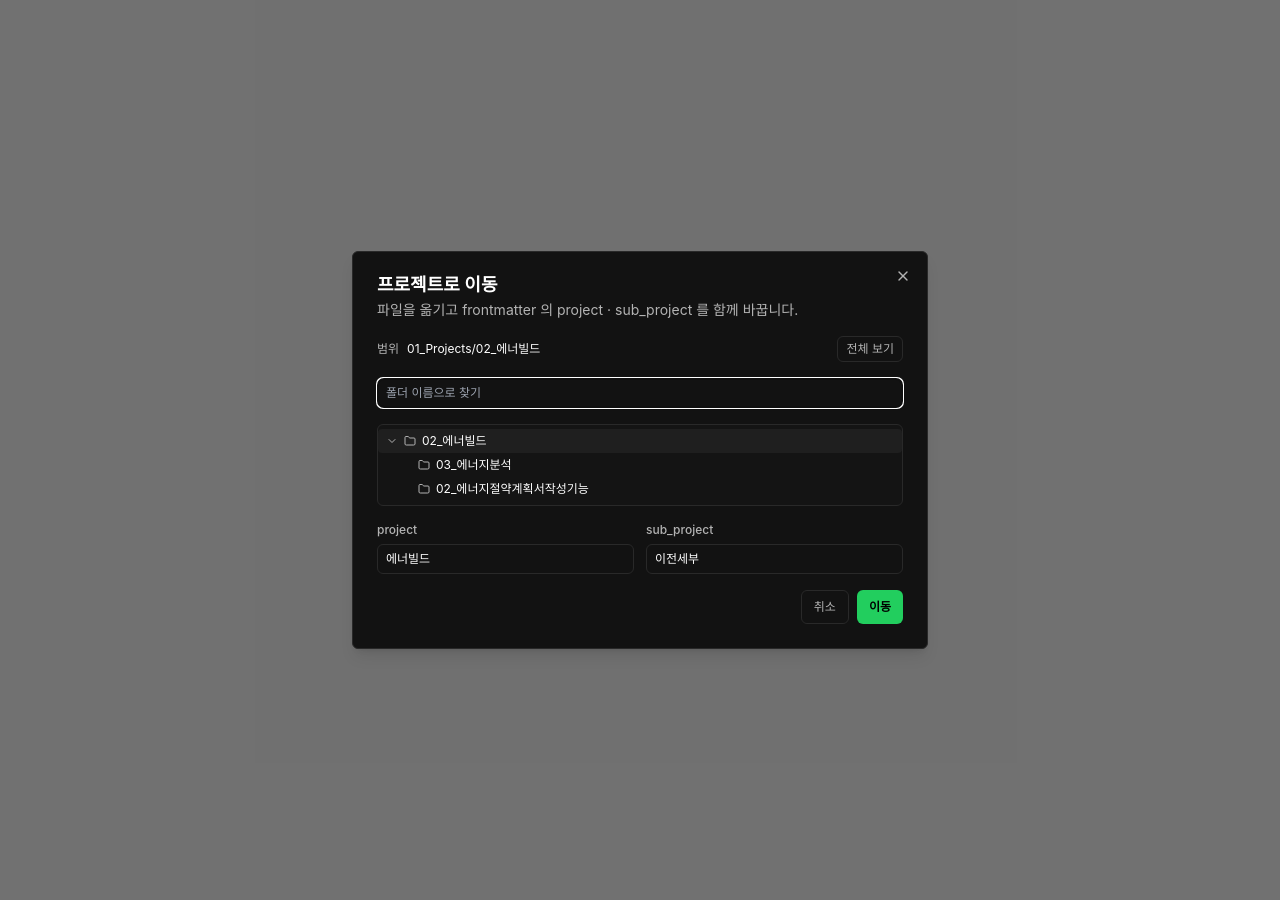
it: MoveToProjectDialog — 범위·검색·매핑 › 맞는 폴더가 없으면 안내를 보여준다
The width and height of the screenshot is (1280, 900).
Expected: the button "03_에너지분석" is shown, [436,457,898,473]
Type "없는이름" into the field named "폴더 검색".
click(640, 393); type("없는이름")  # box [377,378,903,408]
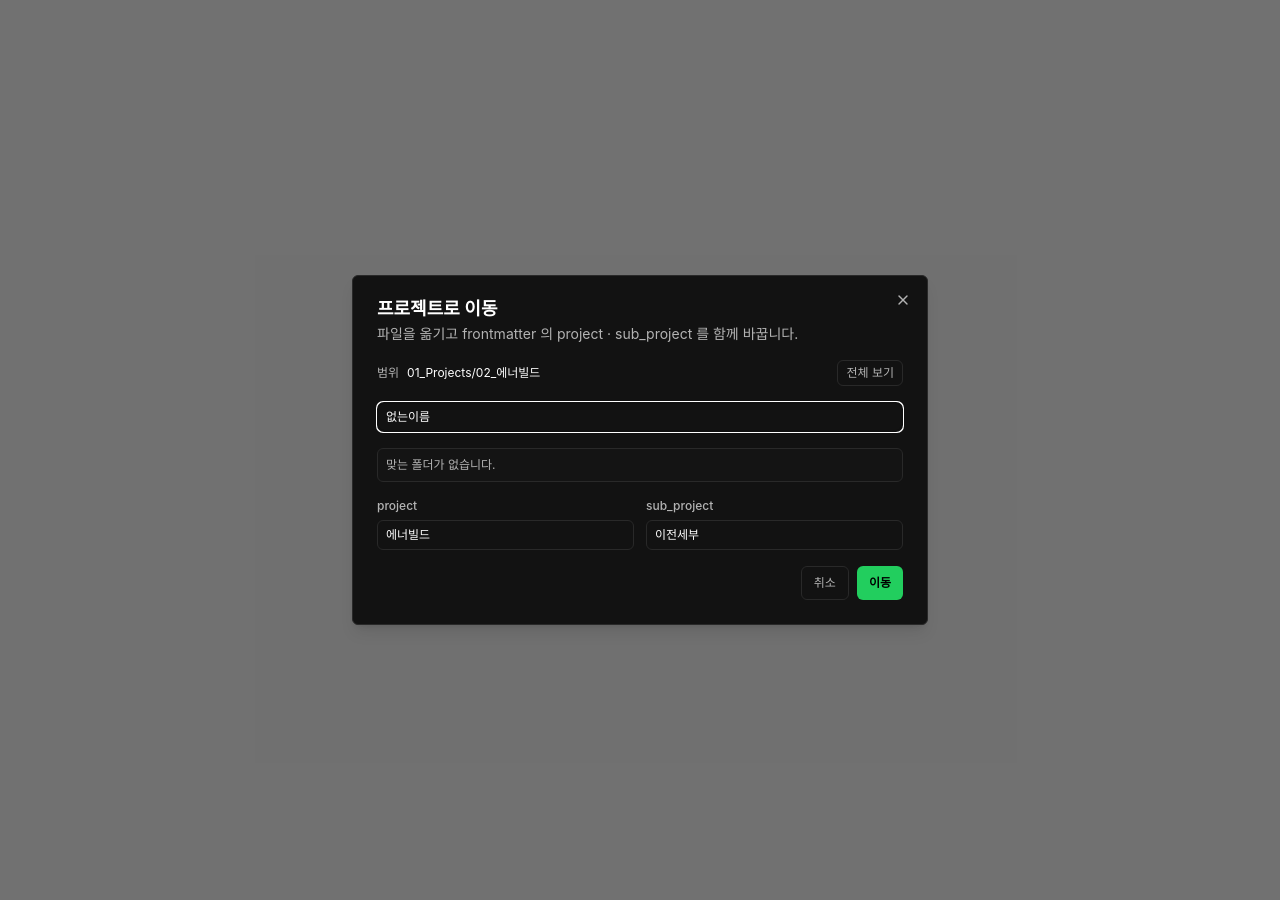
Expected: the text "맞는 폴더가 없습니다." is shown, [386,457,496,472]
